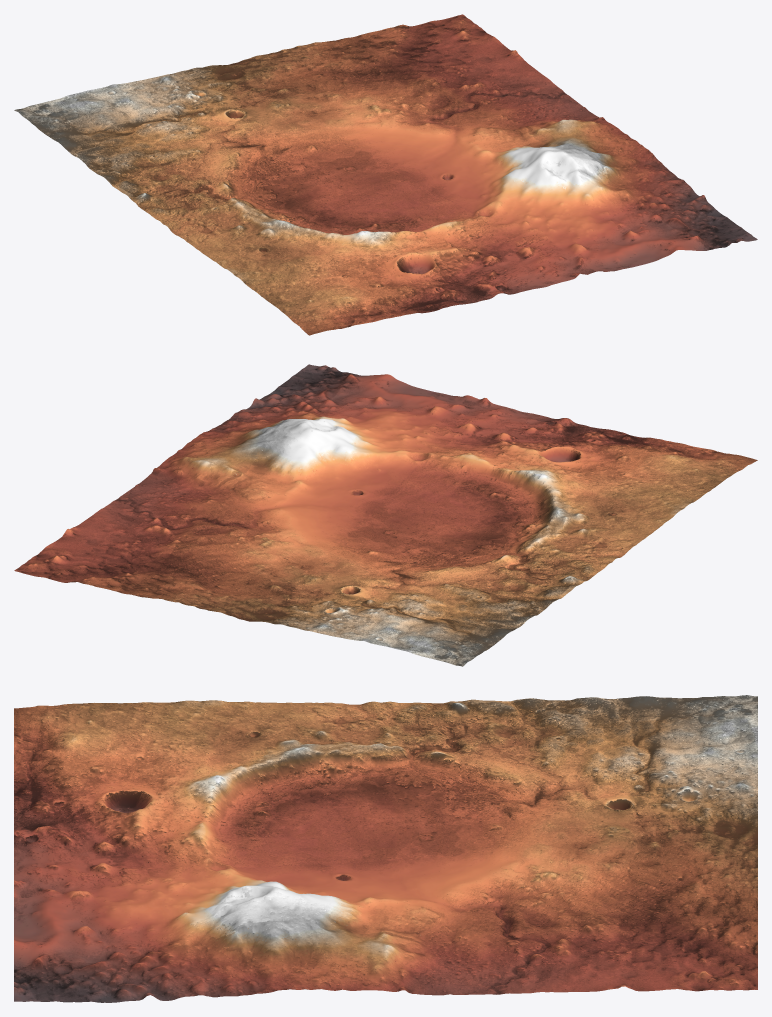
Rendered from jezero.gltf.
The picture shows the model from 3 angles, top to bottom: view 1: azimuth 30°, elevation 25°; view 2: azimuth 150°, elevation 25°; view 3: azimuth 270°, elevation 25°; orthographic projection. The views are drawn at different scales.
Parts seen in each view (by area): view 1: M20_JezeroCrater_CTXDEM_20m; view 2: M20_JezeroCrater_CTXDEM_20m; view 3: M20_JezeroCrater_CTXDEM_20m.
Boxes of the visible parts, x1=… form: M20_JezeroCrater_CTXDEM_20m: x1=14, y1=14, x2=757, y2=335; M20_JezeroCrater_CTXDEM_20m: x1=14, y1=364, x2=757, y2=666; M20_JezeroCrater_CTXDEM_20m: x1=14, y1=695, x2=757, y2=1002.
Bounding box in the file's own units: 10000 × 823 × 11387.
Materials: 1 (1 with a texture image).
